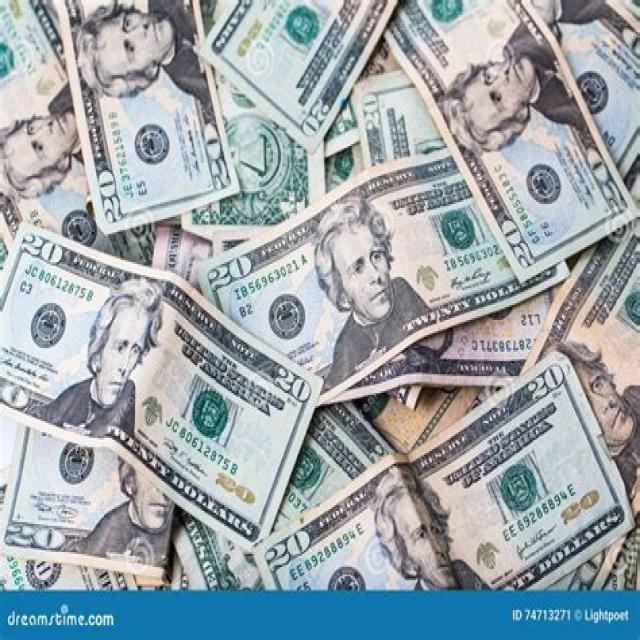Twenty: (206, 145, 570, 429), (0, 232, 324, 545), (258, 350, 634, 589), (382, 0, 638, 270), (55, 0, 239, 233)
